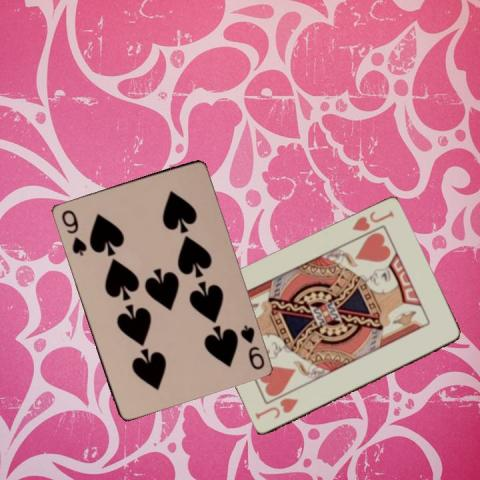9s: (58, 207, 88, 257), (237, 322, 265, 371)
Jh: (252, 395, 299, 422), (349, 208, 395, 233)
